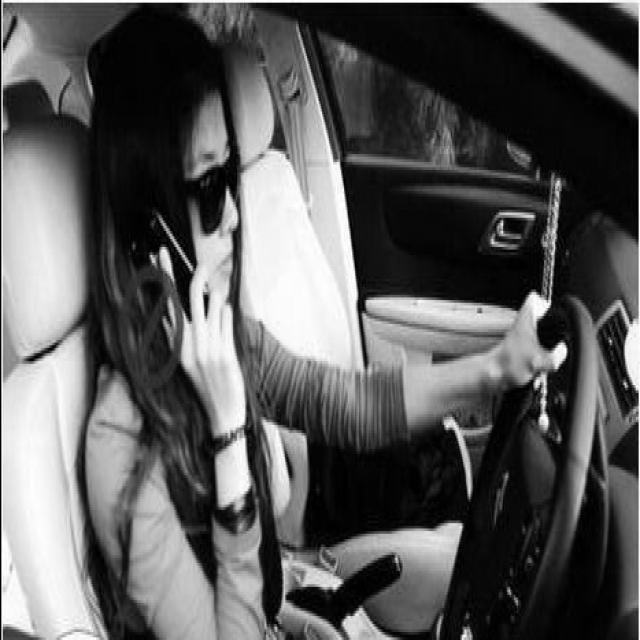phone: (123, 175, 244, 417)
